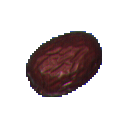gd: (10, 22, 124, 104)
